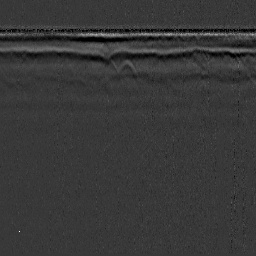cavity: (117, 58, 137, 78)
